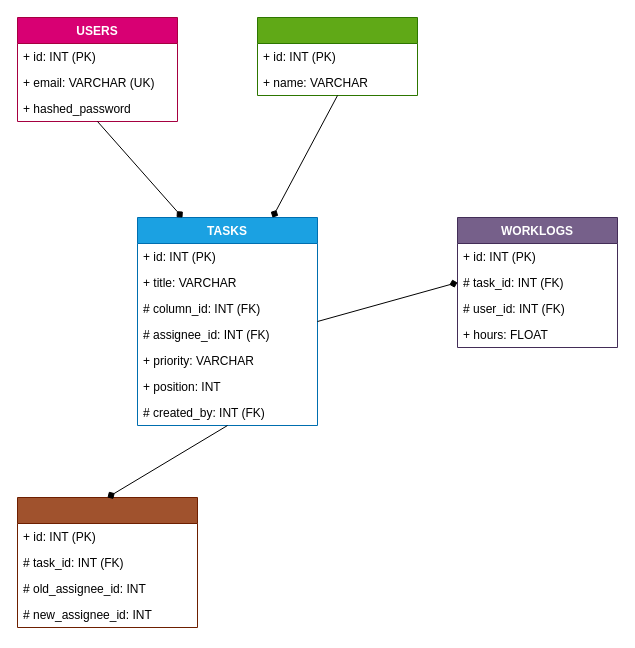
Some shapes in this 635 by 648 pixel diagram are drawn without their labels. Each missing label, with the box of its shape:
ASSIGNMENT_HISTORY: (16, 496, 198, 628)
COLUMNS: (256, 16, 418, 96)
